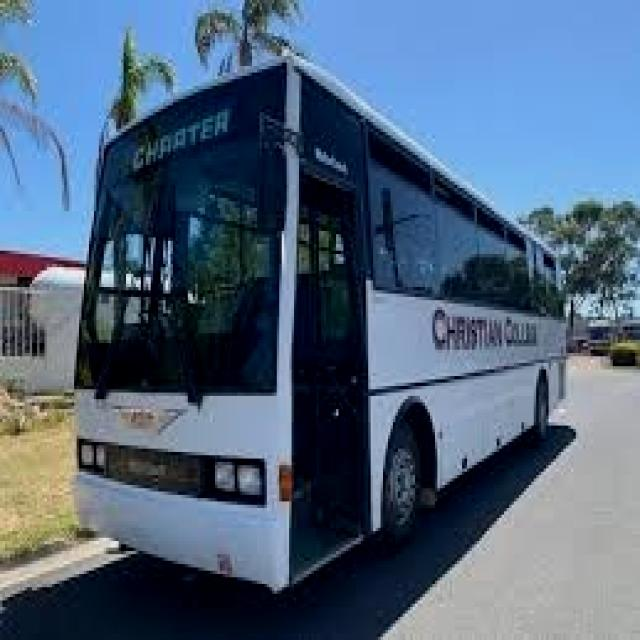bus: (42, 20, 593, 607)
